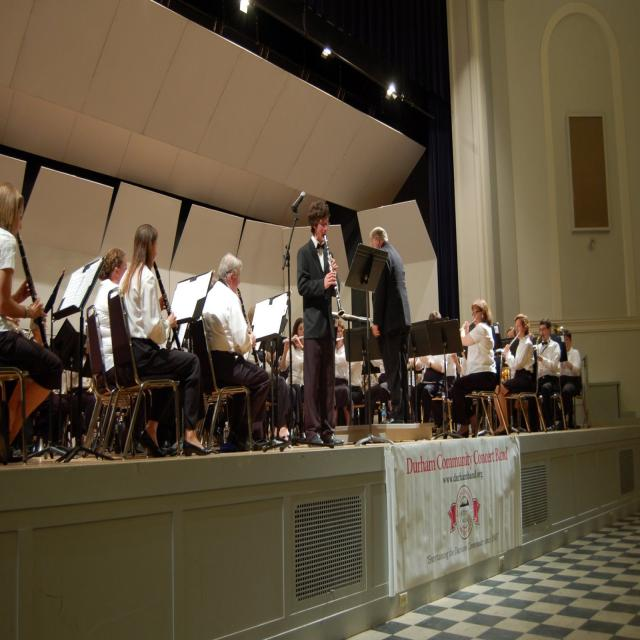clarinet: (16, 232, 49, 350), (152, 260, 183, 350), (236, 287, 260, 368), (323, 232, 345, 319)
